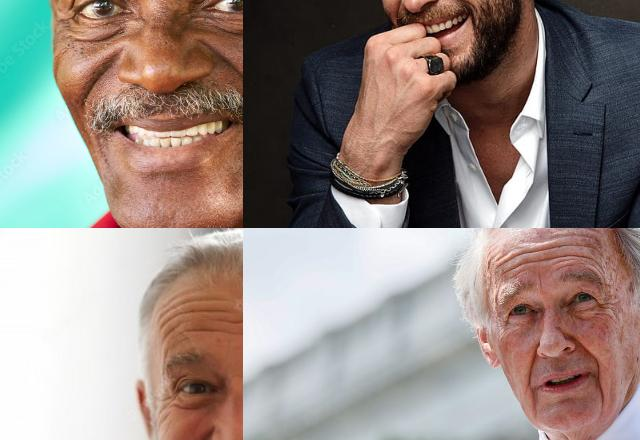crows_feet: (156, 386, 180, 416), (56, 8, 78, 34), (596, 296, 616, 322), (498, 314, 512, 334)
forehead: (184, 293, 230, 317), (184, 320, 230, 340), (158, 301, 178, 343), (528, 241, 558, 269), (564, 237, 592, 267), (496, 248, 524, 274)
frown_line: (536, 272, 548, 296)
gummy_smile: (208, 43, 243, 82), (80, 62, 106, 102), (573, 335, 599, 365), (523, 348, 539, 382), (392, 0, 404, 20), (183, 433, 210, 440), (440, 0, 465, 4)
sad_smile: (528, 390, 544, 418), (594, 382, 608, 410)
